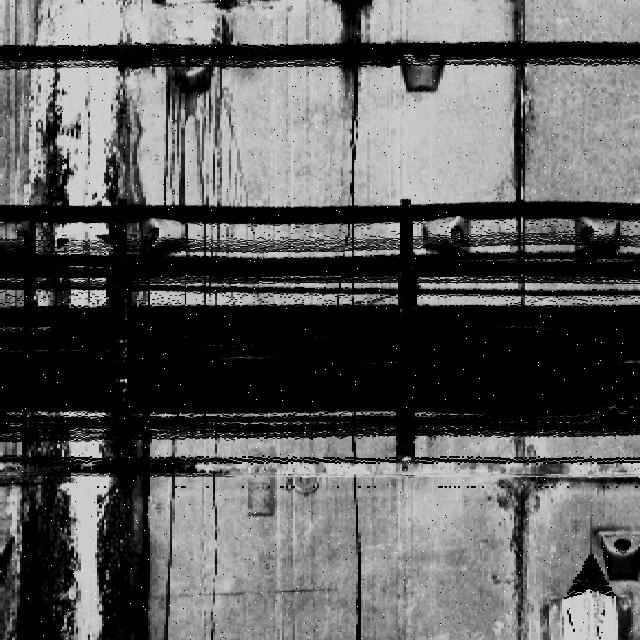leakage: (11, 75, 84, 640), (96, 44, 151, 640), (162, 60, 251, 263), (331, 1, 376, 122)
